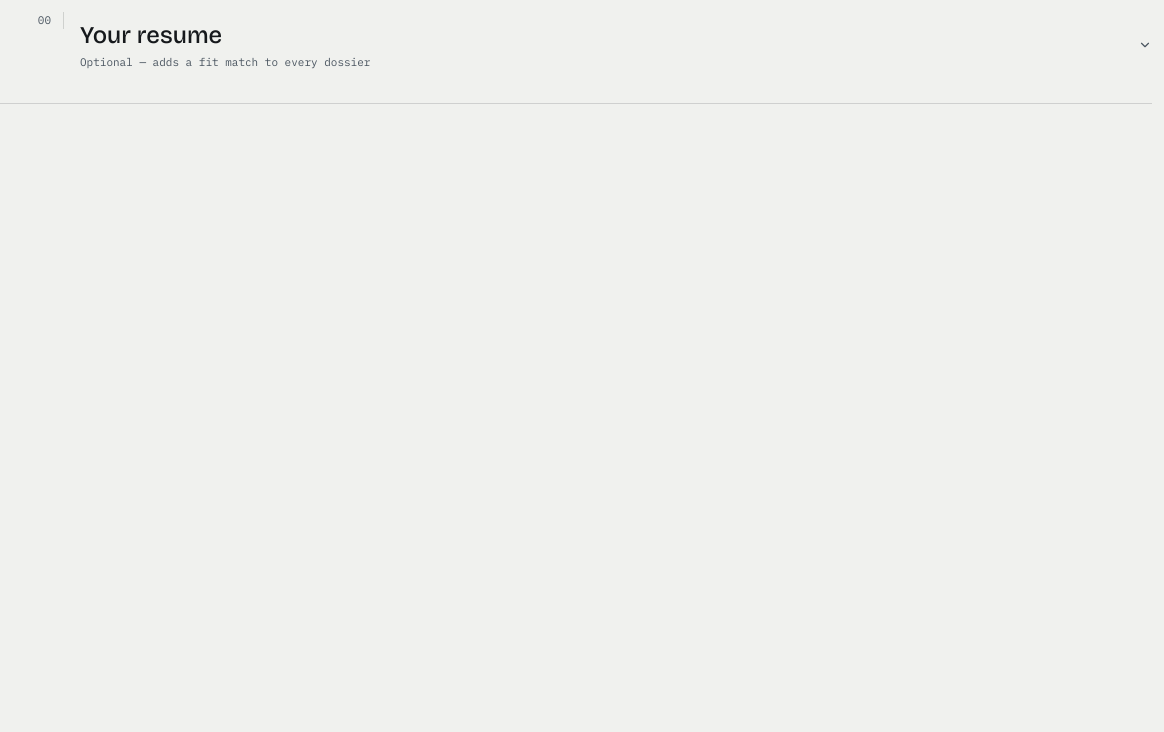
ResumePanel — account region (reactive) › a GitHub sign-in with no email shows the provider + handle
This screenshot has width=1164, height=732.
Click the button "Your resume Optional — adds a fit match to every dossier": (151,35) [80, 12, 1152, 78]
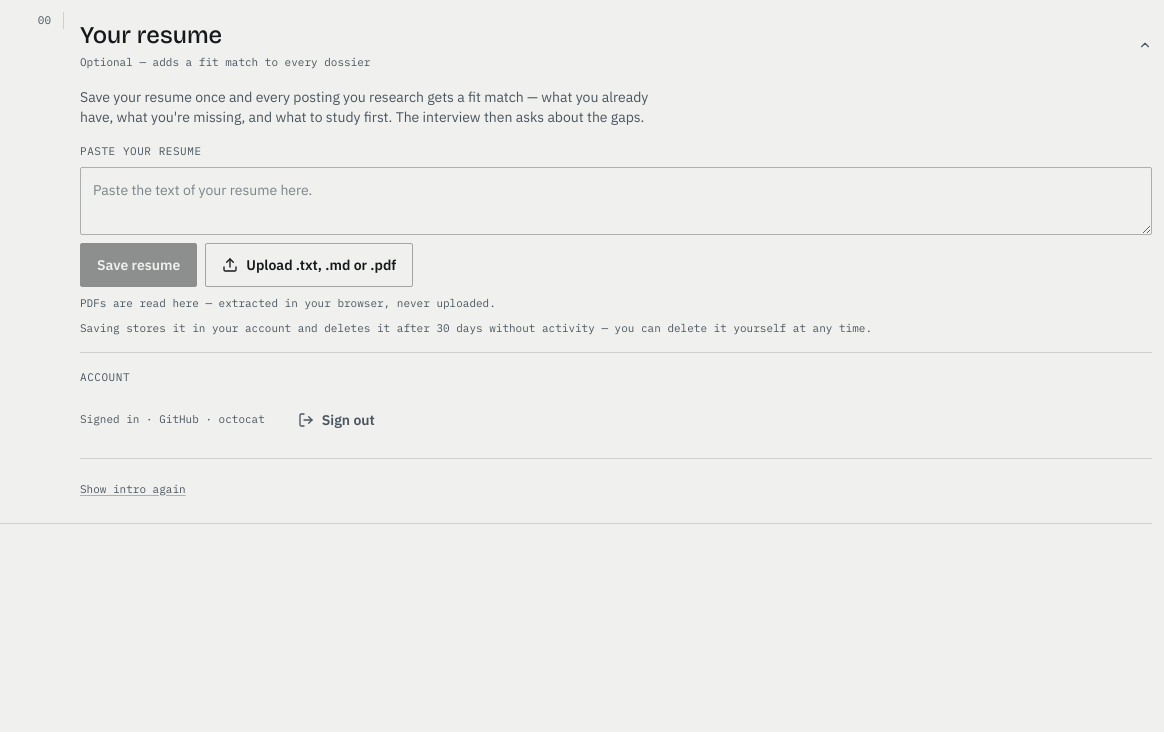
Now the text "Signed in · GitHub · octocat" is shown, box [80, 411, 265, 428]
Now the button "Sign out" is shown, box [281, 398, 392, 442]
